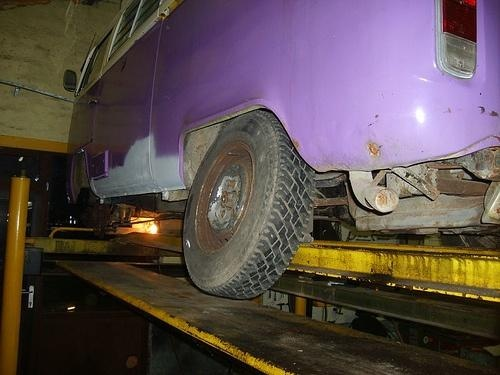car: (65, 2, 500, 301)
